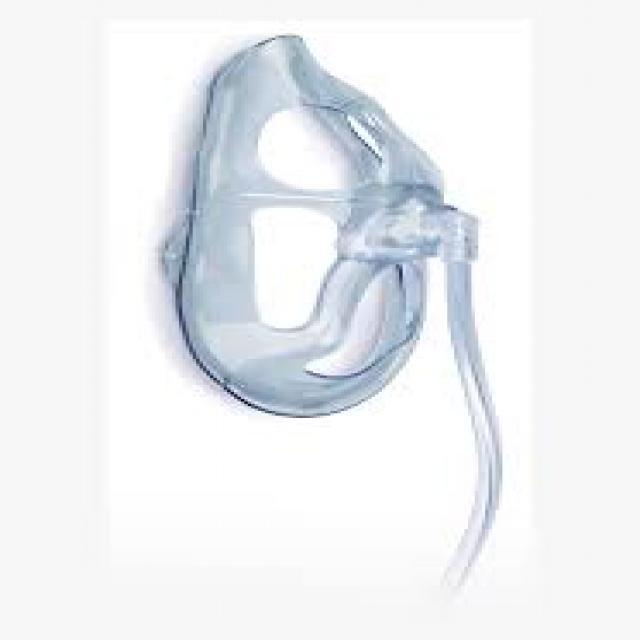oxygen_mask: (203, 54, 514, 530)
